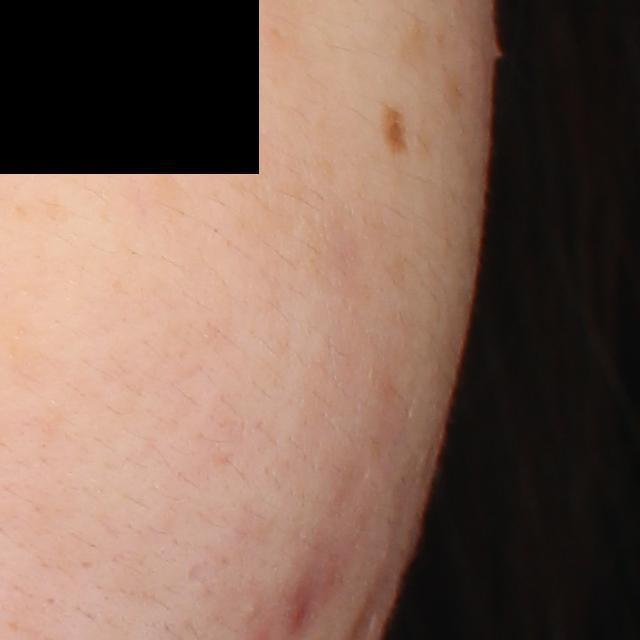comedo: (243, 599, 261, 619)
melasma: (391, 21, 432, 89)
nevus: (377, 103, 407, 154)
